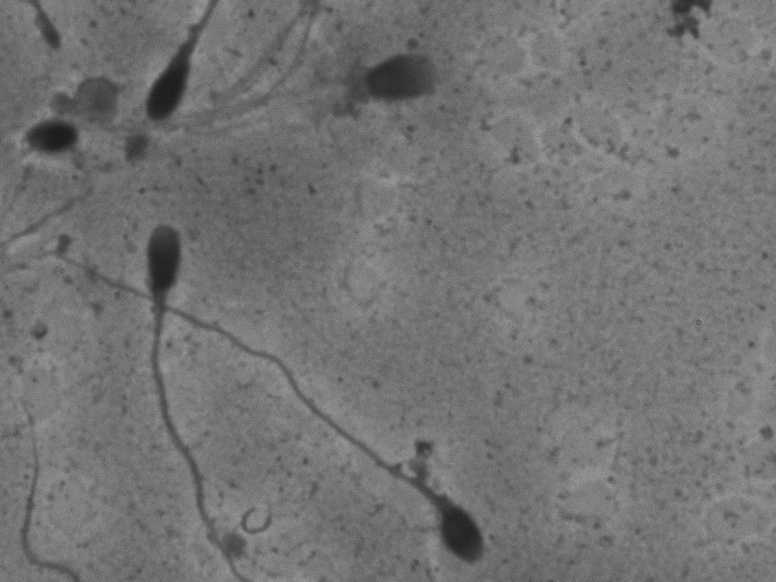Abnormal: (39, 239, 510, 570), (124, 216, 250, 577)
